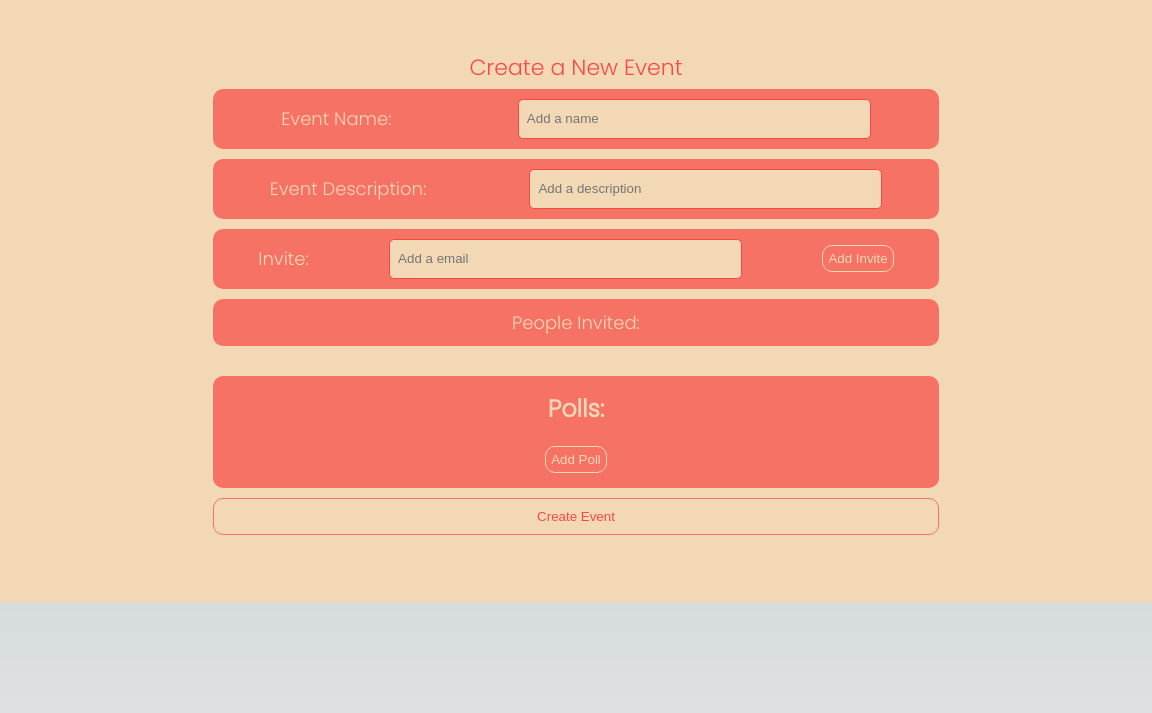
Test: NewEvent Component › adds and removes polls
What coordinates should you click on to do the following:
click the button "Add Poll"
I would click on:
 (576, 459)
Its box is [545, 446, 607, 473].
(page scrolled)
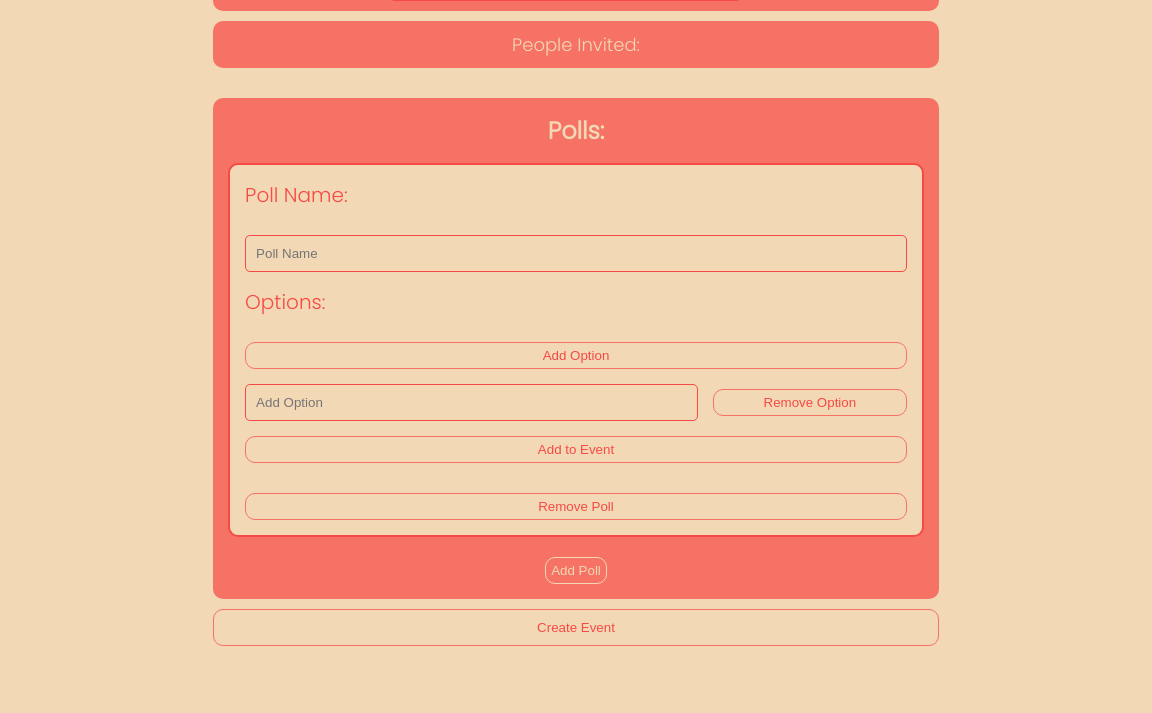
What coordinates should you click on to do the following:
click the button "Remove Poll"
I would click on:
 (576, 506)
Its box is [245, 493, 907, 520].
(page scrolled)
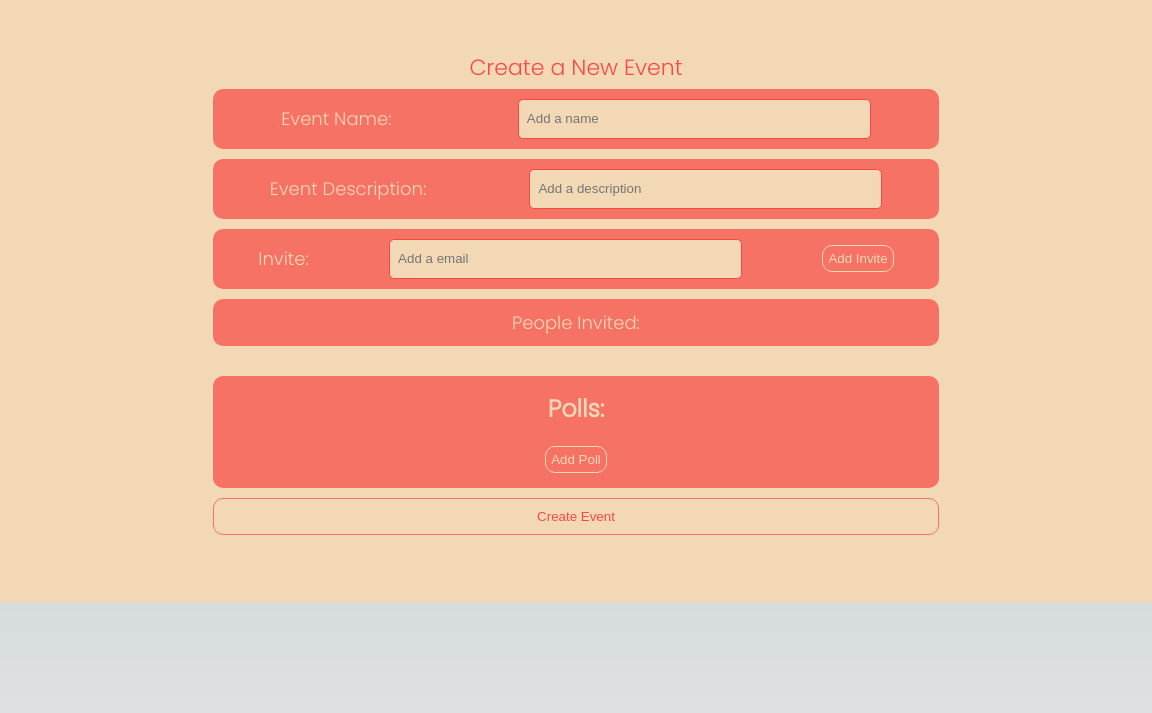
expect the text "Poll Name:" is gone: met
